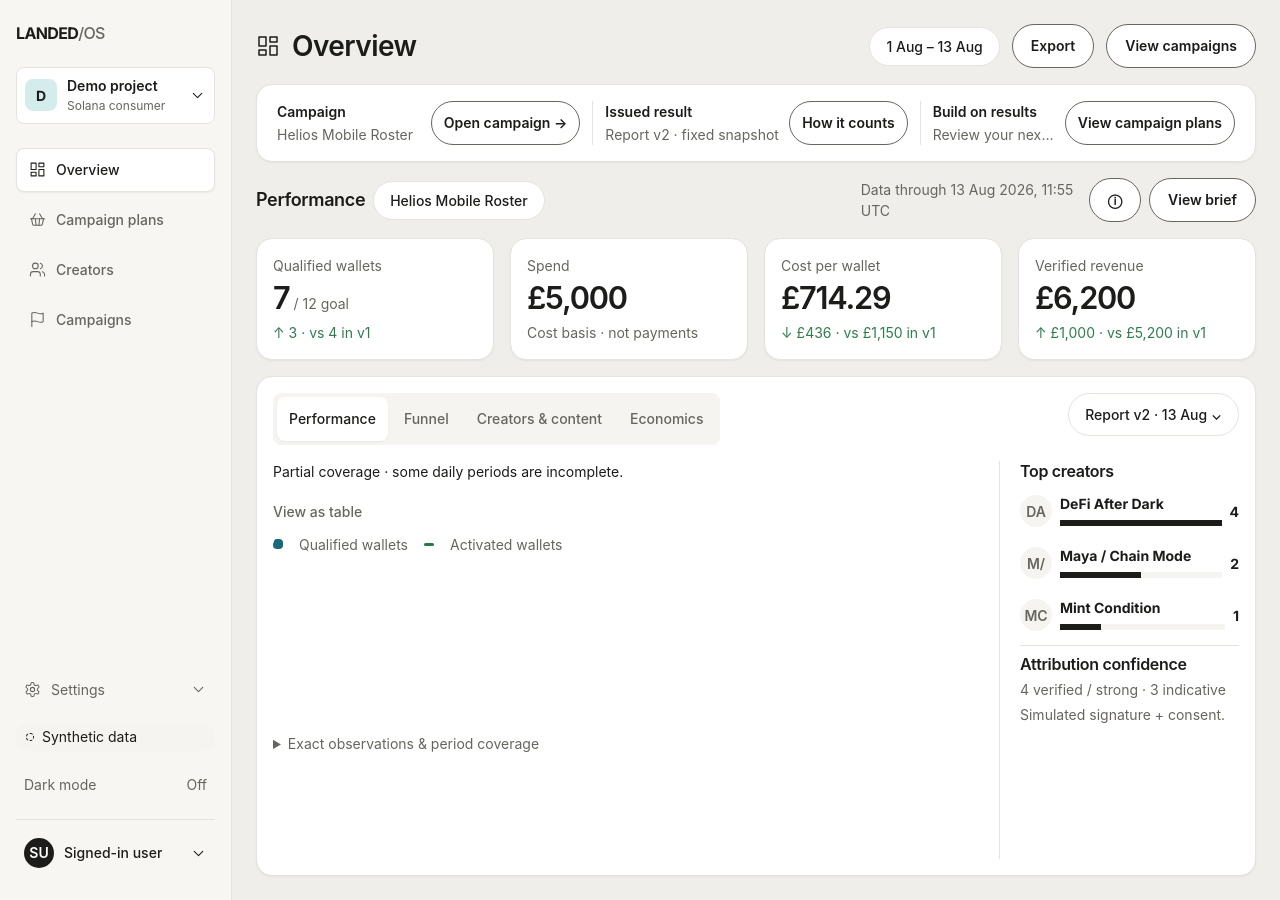
Test case: merged Overview › opens exact evidence with provenance and retains version/export controls
The width and height of the screenshot is (1280, 900).
What coordinates should you click on to do the following:
click the button with aria-label "Qualified wallets: 7. Open evidence"
I would click on:
 (375, 299)
Its box is [256,238,494,360].
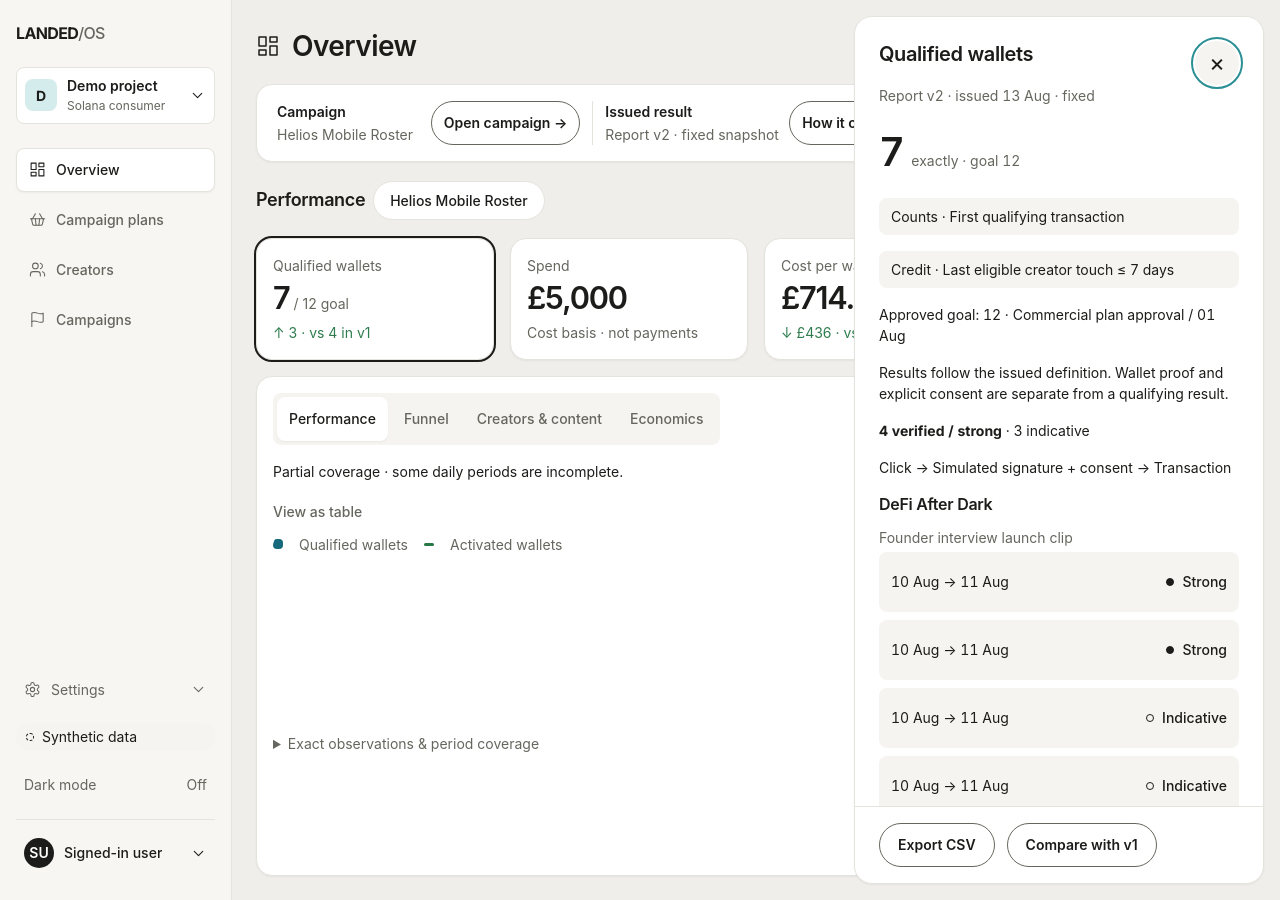
Expected: the text "Founder interview launch clip" is shown once, [879,529,1073,546]
Expected: the text "exactly · goal 12" is shown, [911,150,1020,171]
What coordinates should you click on to do the following:
click the button named "Close evidence"
I would click on:
 (1217, 63)
Its box is [1195,41,1239,85].
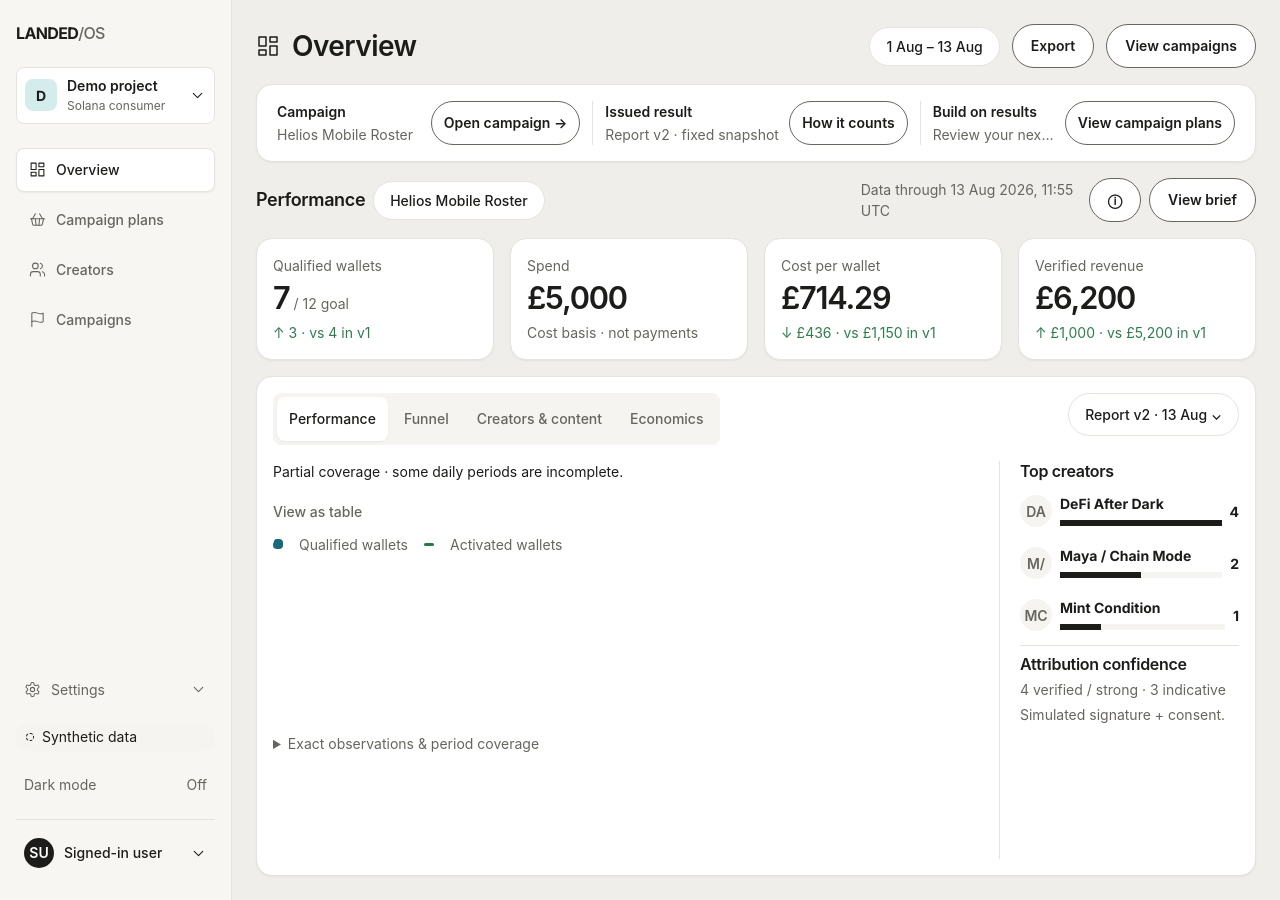
Expected: the dialog is gone
